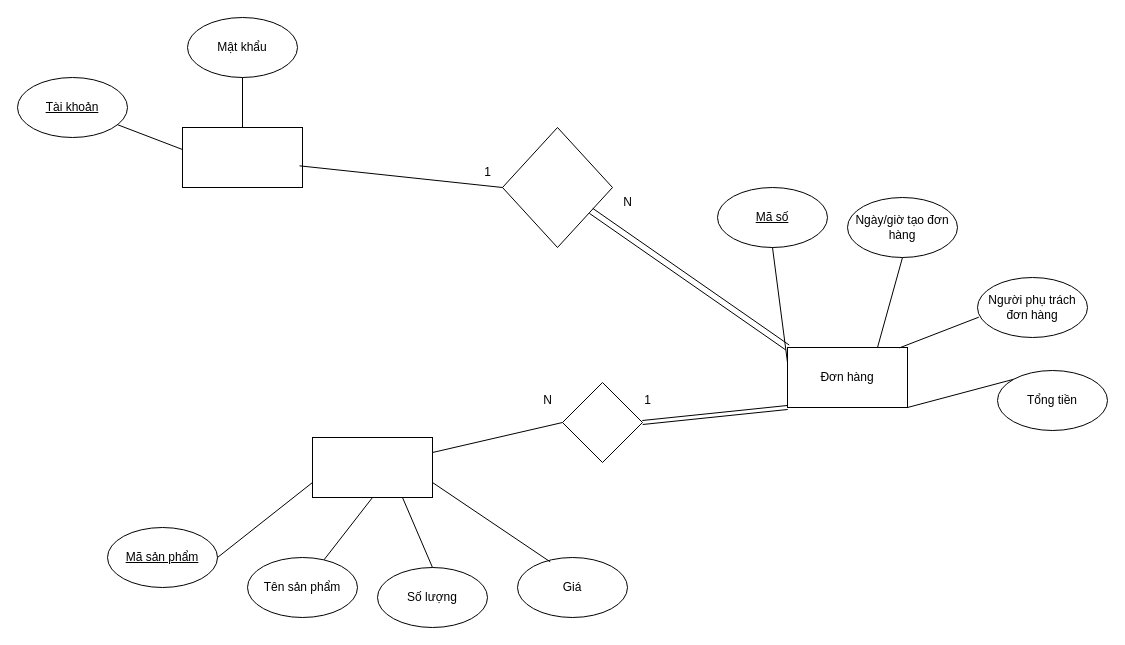
This 1125x645 diagram has some shape labels left out. Each missing label, with the centre of its shape:
"Sản phẩm" belongs at [372,467].
"Thu ngân" belongs at [242,157].
"Tính tiền" belongs at [557,187].
"Work_on" belongs at [602,422].
